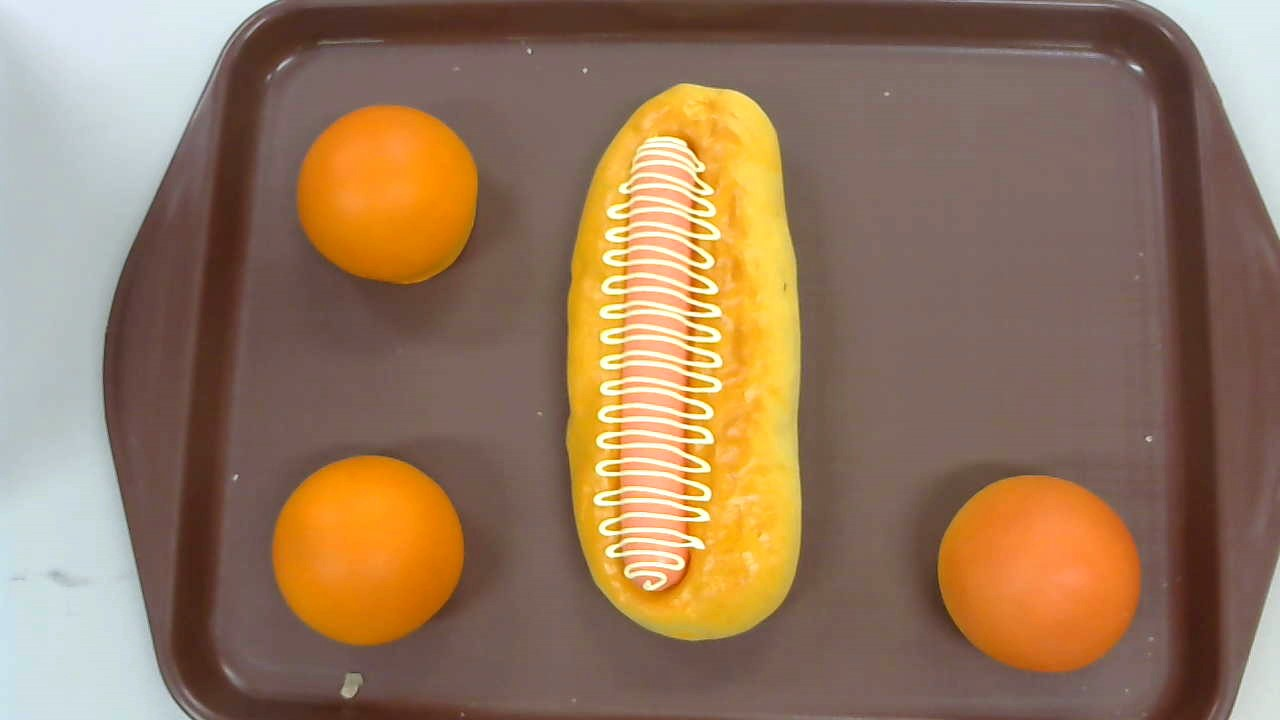bun: (937, 476, 1141, 674), (272, 455, 463, 647), (296, 103, 478, 286)
hot dog: (563, 84, 803, 642)
